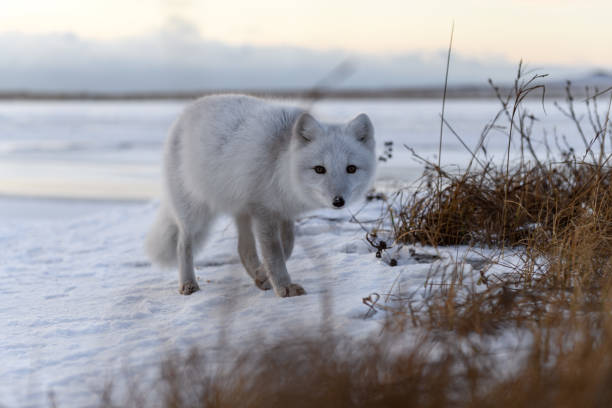arcticfox: (303, 141, 367, 213)
